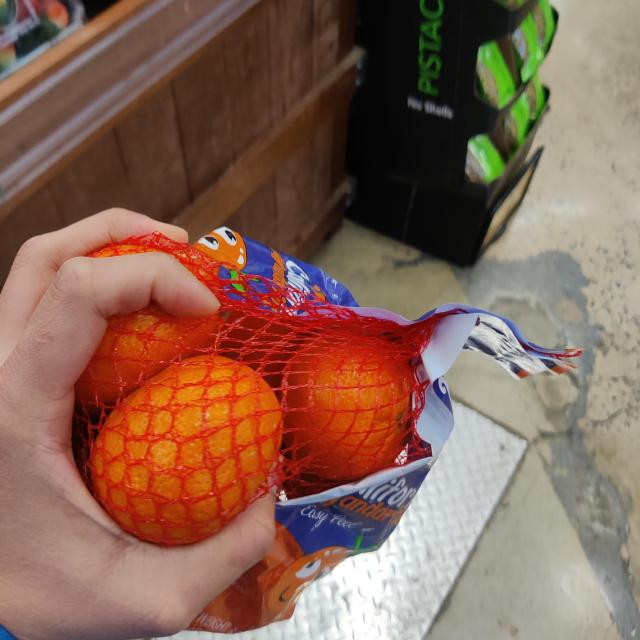Oranges: (88, 224, 436, 633)
